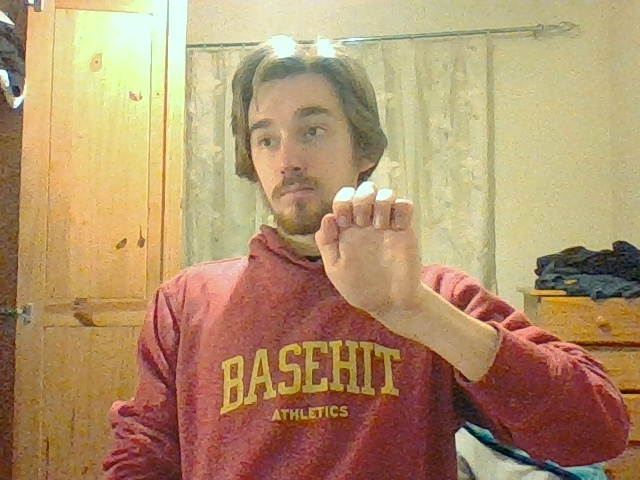your: (314, 182, 419, 297)
